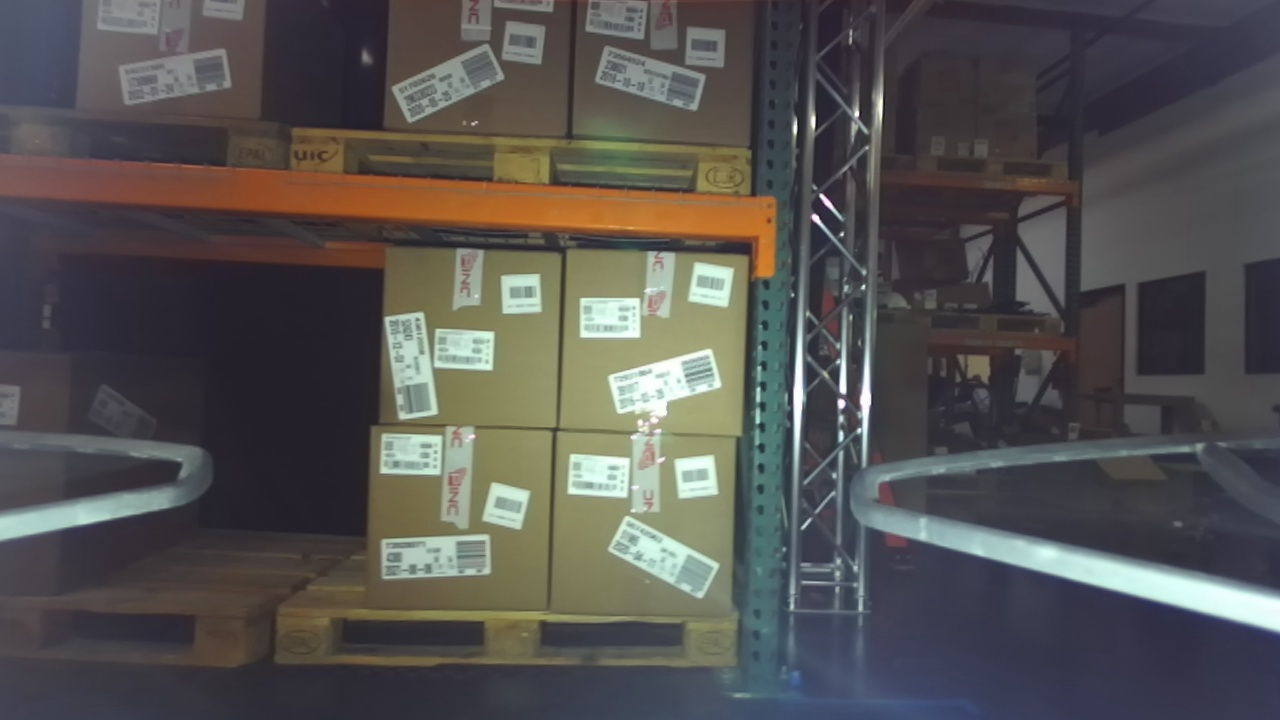box: (346, 218, 581, 457), (339, 407, 583, 634), (537, 214, 754, 465), (530, 404, 749, 641), (369, 1, 587, 168), (559, 1, 773, 164), (58, 1, 290, 139)
